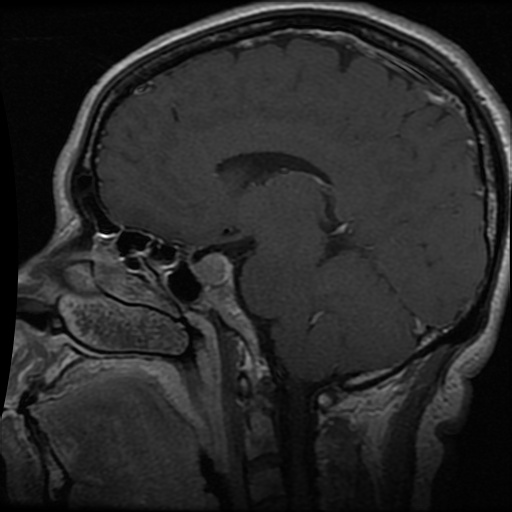pituitary: (189, 253, 233, 287)
